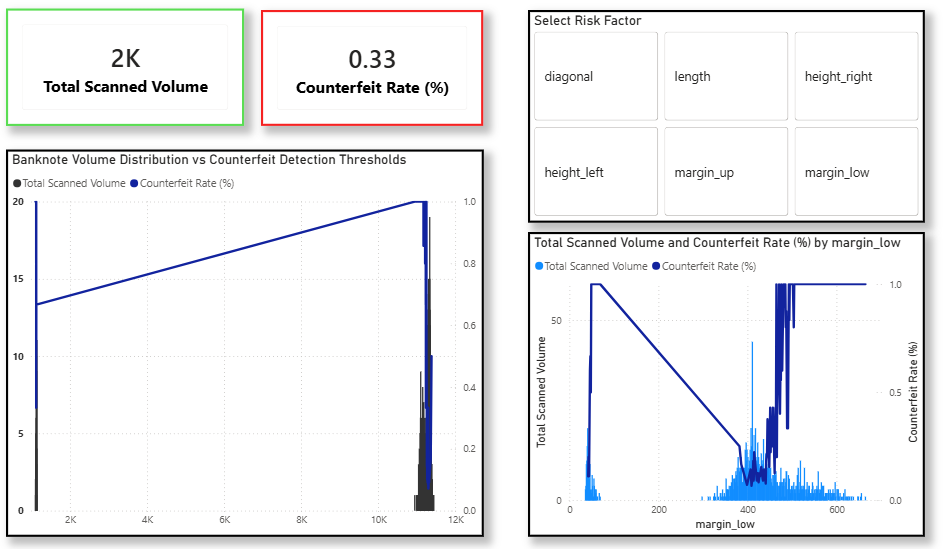

The dashboard page shown, as its layout file describes it:
{"tool":"powerbi","page":{"name":"Page 1","canvas":[1280,720],"ordinal":0},"visuals":[{"type":"lineClusteredColumnComboChart","title":"Banknote Volume Distribution vs Counterfeit Detection Thresholds","fields":{"Y":["Dim_Status.Total Scanned Volume"],"Y2":["Dim_Status.Counterfeit Rate (%)"],"Category":["Fact_Scanned_Bills.length (bins)"]},"box":[38,202,602,488],"z":0},{"type":"cardVisual","fields":{"Data":["Dim_Status.Total Scanned Volume"]},"box":[38,24,300,148],"z":1000},{"type":"cardVisual","fields":{"Data":["Dim_Status.Counterfeit Rate (%)"]},"box":[360,26,280,146],"z":2000},{"type":"advancedSlicerVisual","fields":{"Values":["Select Risk Factor.Select Risk Factor"]},"box":[696,26,500,268],"z":3000},{"type":"lineClusteredColumnComboChart","fields":{"Category":["Fact_Scanned_Bills.margin_low"],"Y":["Dim_Status.Total Scanned Volume"],"Y2":["Dim_Status.Counterfeit Rate (%)"]},"box":[696,306,500,384],"z":4000}]}

Visuals, with their boxes in screenshot pixels (x1, y1, x2, y2), scaled from the page's 1280x720 canvas onto the 949x549 screenshot:
"Banknote Volume Distribution vs Counterfeit Detection Thresholds" lineClusteredColumnComboChart: 28, 154, 474, 526
cardVisual - Dim_Status.Total Scanned Volume: 28, 18, 251, 131
cardVisual - Dim_Status.Counterfeit Rate (%): 267, 20, 474, 131
advancedSlicerVisual - Select Risk Factor.Select Risk Factor: 516, 20, 887, 224
lineClusteredColumnComboChart - Fact_Scanned_Bills.margin_low x Dim_Status.Total Scanned Volume: 516, 233, 887, 526
